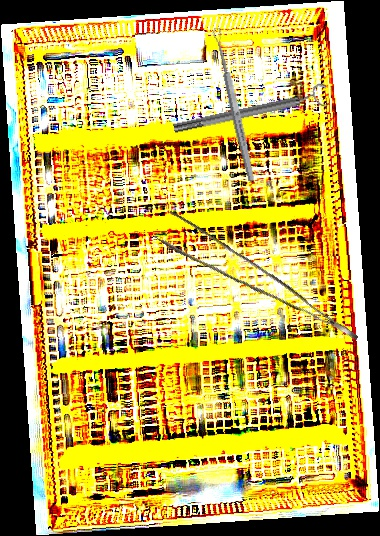Fixation Ring: (171, 81, 330, 141)
Surgical Spoon: (211, 26, 257, 183)
Tissue Forceps: (152, 200, 359, 372)
